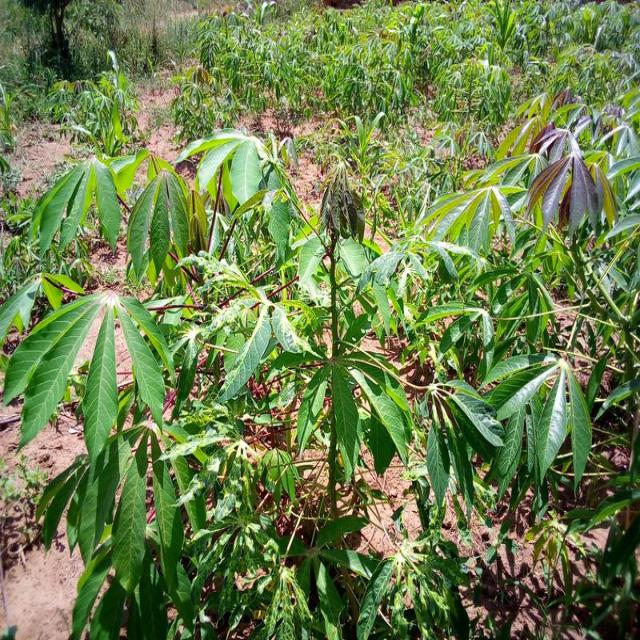cassava leaf: (1, 81, 638, 637)
